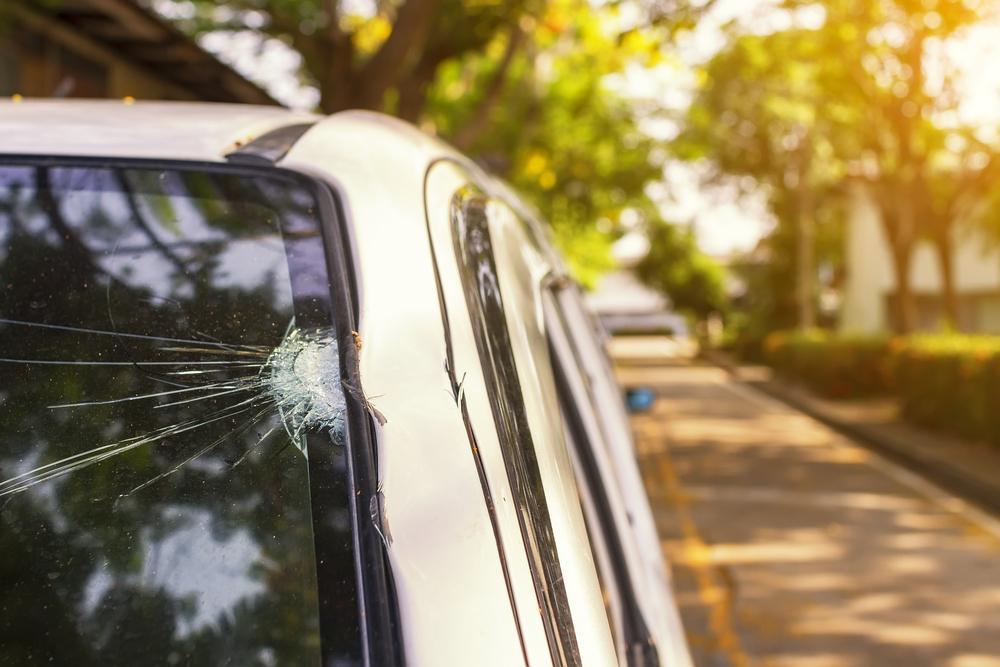dent: (360, 312, 490, 585)
glass shatter: (0, 158, 369, 667)
